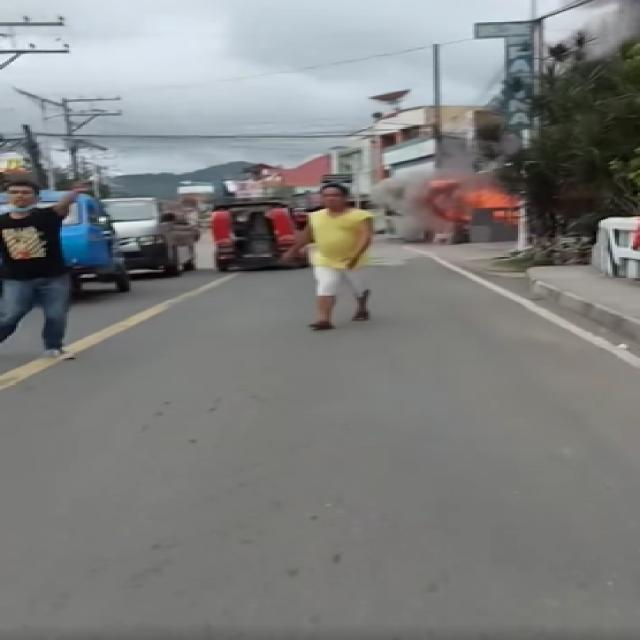Fire: (442, 182, 534, 224)
Smoke: (388, 180, 548, 228)
